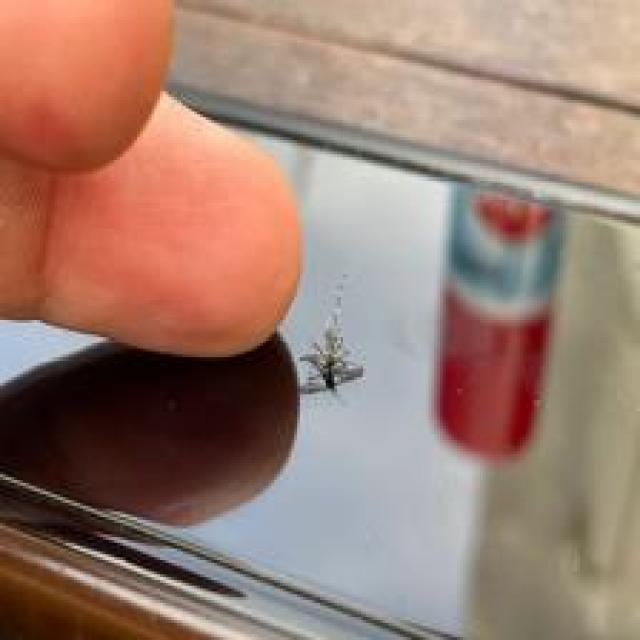Aedes albopictus: (296, 273, 367, 396)
